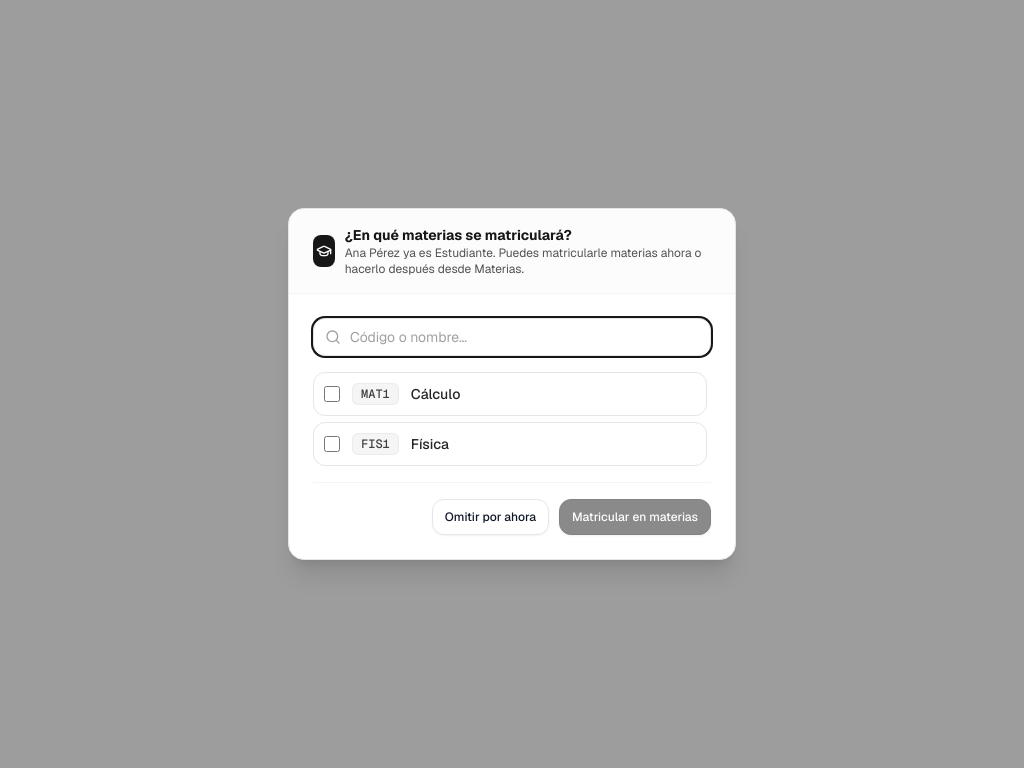
Test: EnrollSubjectsDialog › shows per-subject failures and stays open
expect the text "Cálculo" is shown: met, box x1=411 y1=384 x2=460 y2=404
Click the checkbox labelled "MAT1 Cálculo" at point(332, 394), box x1=324 y1=386 x2=340 y2=402
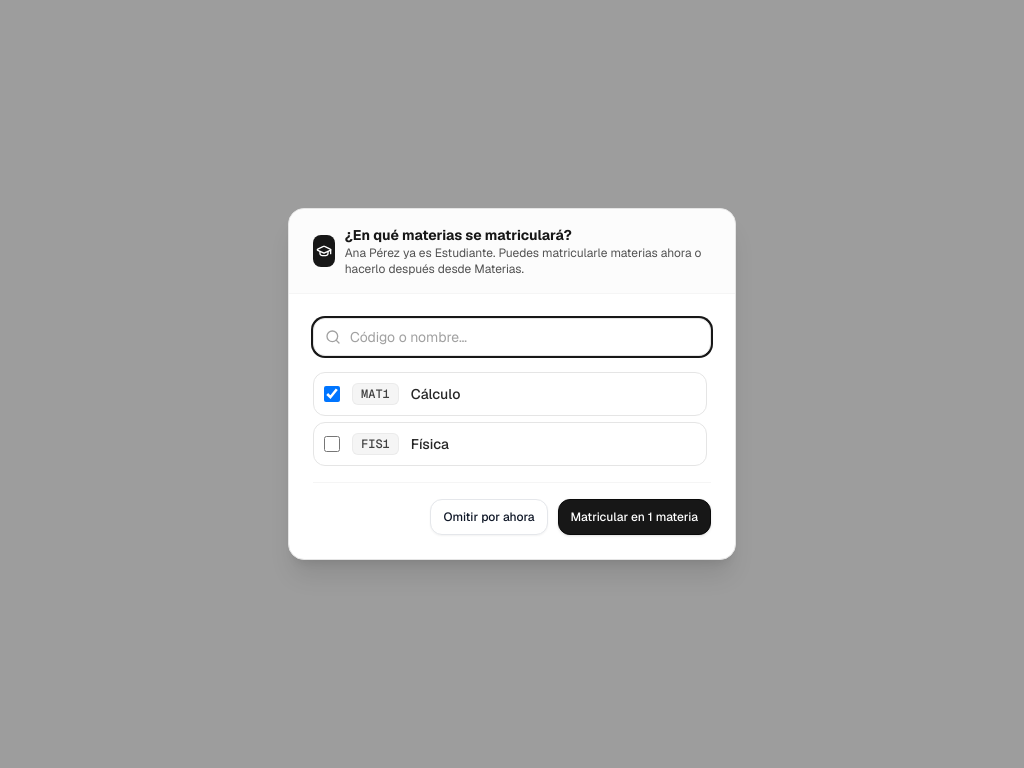
Click the button "Matricular en 1 materia" at point(634, 517), box x1=558 y1=499 x2=711 y2=535
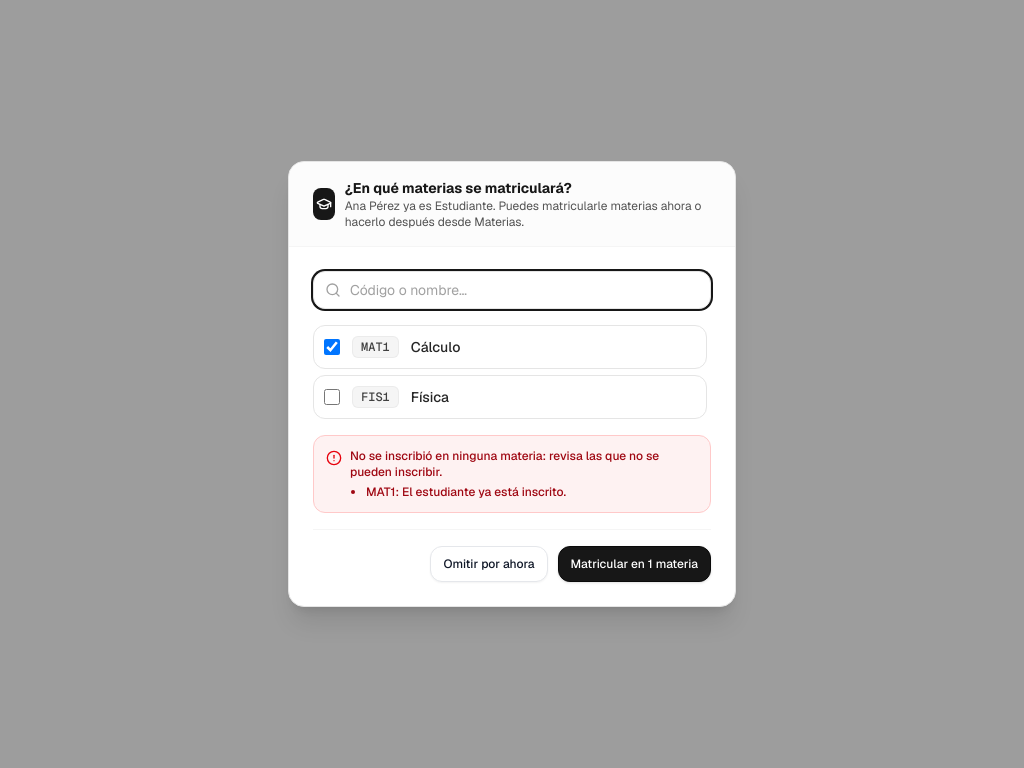
expect the list item "MAT1: El estudiante ya está inscrito." is shown: met, box x1=366 y1=484 x2=566 y2=500
